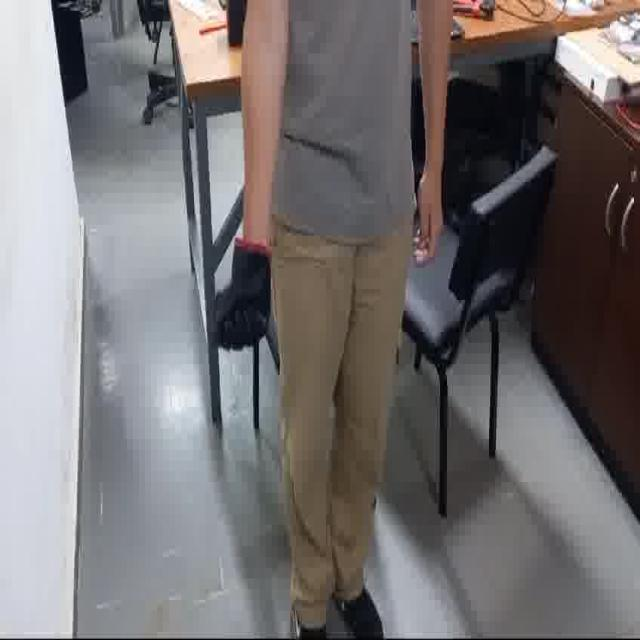Gloves: (206, 225, 277, 358)
